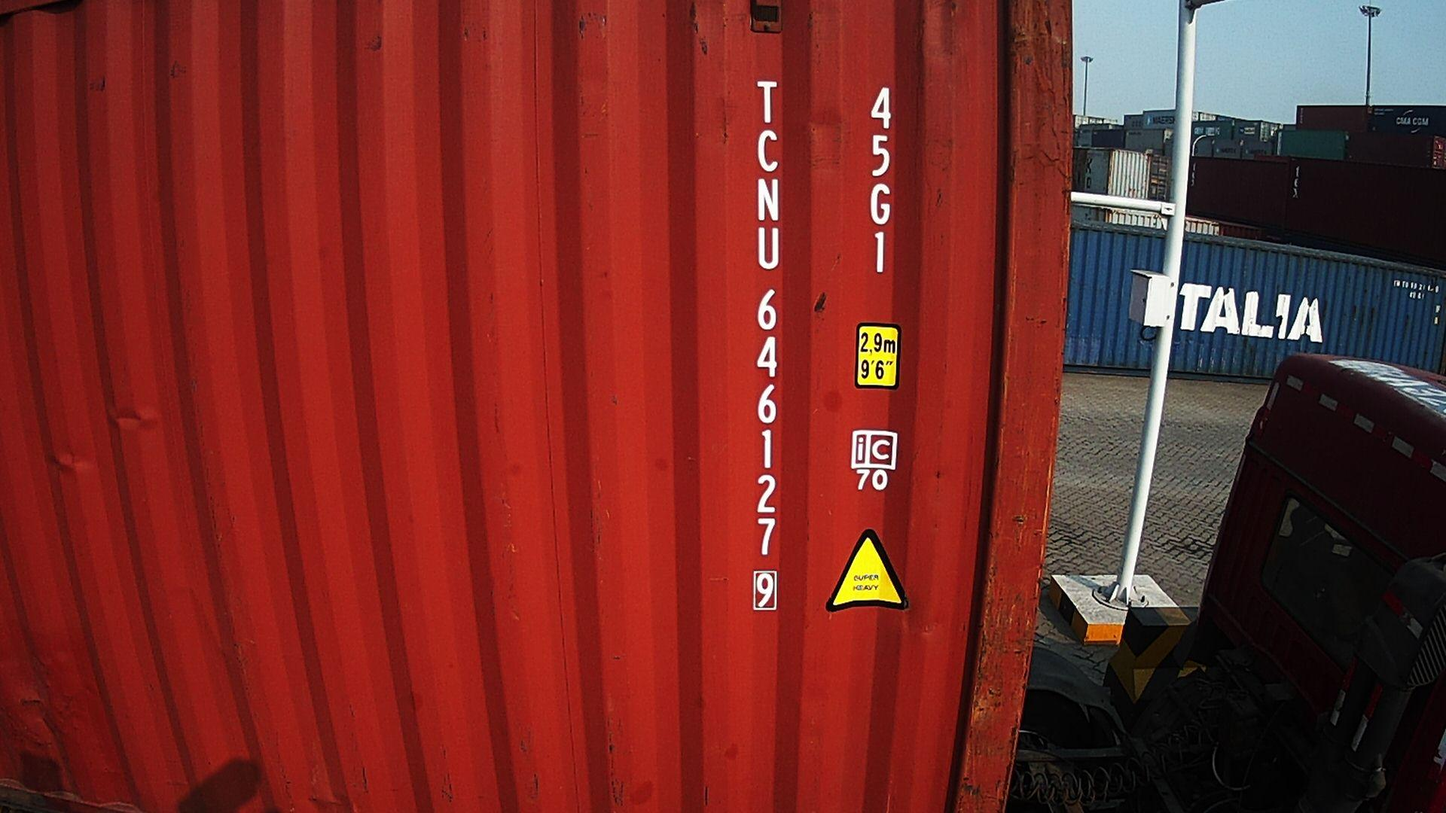container-numbers: (745, 74, 788, 617), (862, 84, 901, 279)
